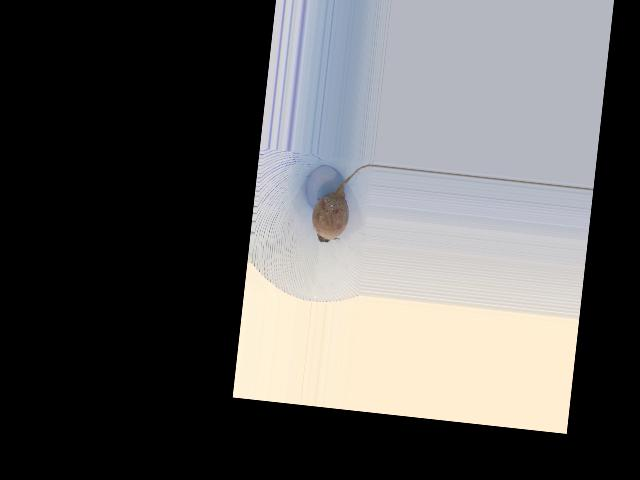beet: (309, 159, 374, 247)
